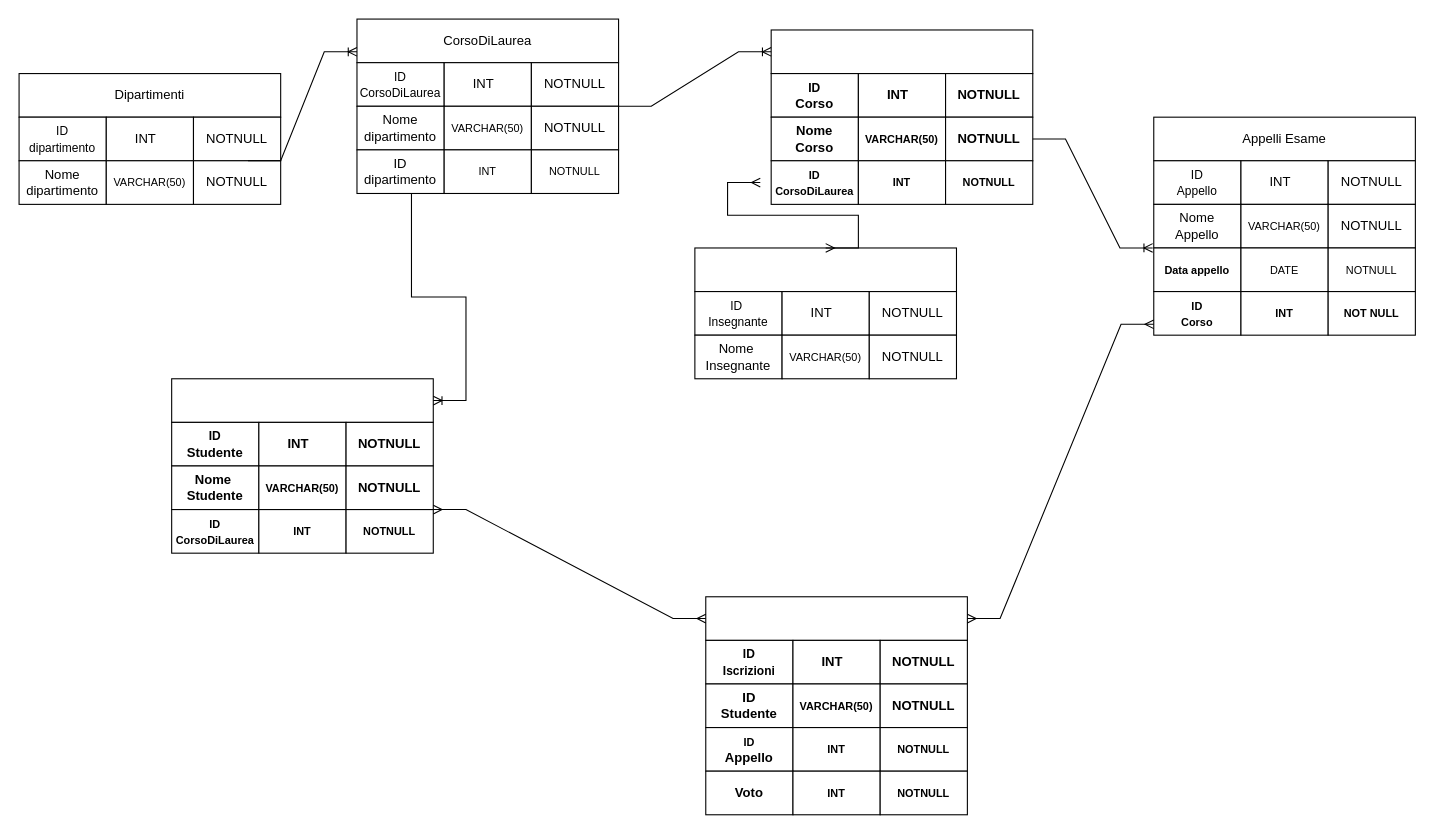
Image size: 1434x834. Some labels were removed from this diagram. Here are the shapes that lost their labels. From the top down, the centre of each, then its label:
At pixel 901 51: "Corsi".
At pixel 825 269: "Insegnanti".
At pixel 302 400: "Studenti".
At pixel 836 618: "Iscrizione esame".
